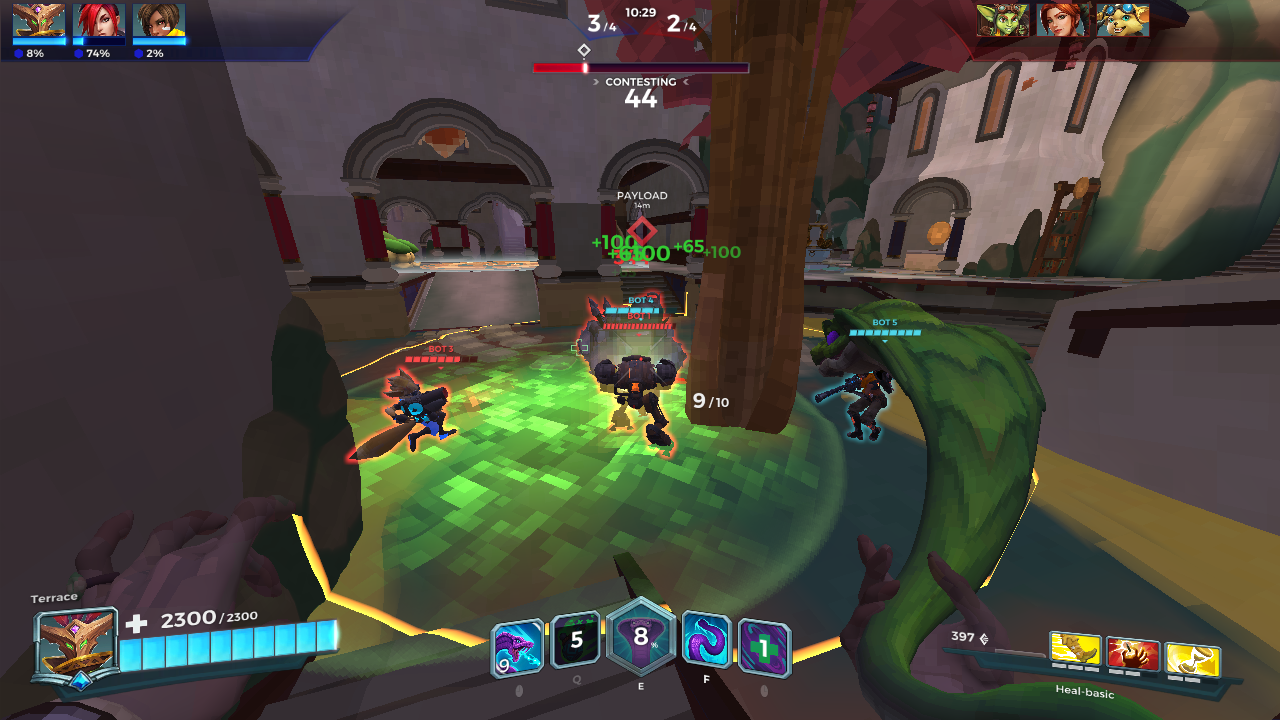model: (346, 369, 455, 461), (601, 348, 677, 448)
